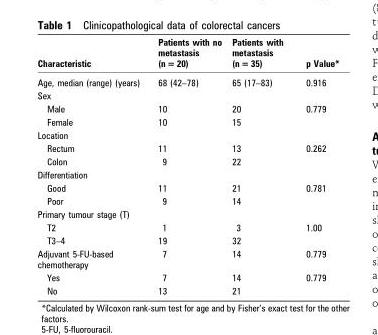table: (36, 36, 338, 295)
table column: (36, 36, 148, 295), (148, 36, 226, 295), (226, 36, 293, 295), (293, 36, 338, 295)
table column header: (36, 36, 338, 72)
table projected row header: (36, 89, 338, 102), (36, 128, 338, 141), (36, 168, 338, 181), (36, 207, 338, 220)
table row: (36, 36, 338, 72), (36, 247, 338, 271), (36, 72, 338, 89), (36, 154, 338, 168), (36, 220, 338, 234), (36, 89, 338, 102), (36, 102, 338, 115), (36, 115, 338, 128), (36, 128, 338, 141), (36, 141, 338, 154), (36, 168, 338, 181), (36, 181, 338, 194), (36, 194, 338, 207), (36, 207, 338, 220), (36, 234, 338, 247), (36, 271, 338, 284), (36, 284, 338, 295)
